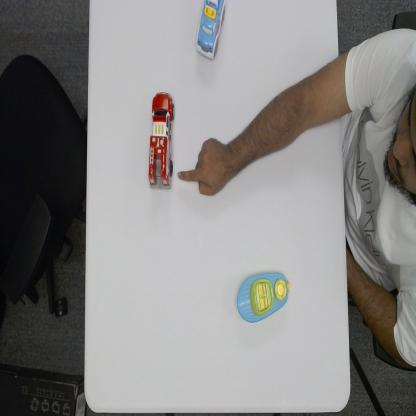Arm: (225, 63, 345, 172)
Boat: (235, 268, 292, 325)
Car: (195, 0, 225, 61)
Firetruck: (148, 90, 176, 192)
Hand: (176, 138, 230, 200)
